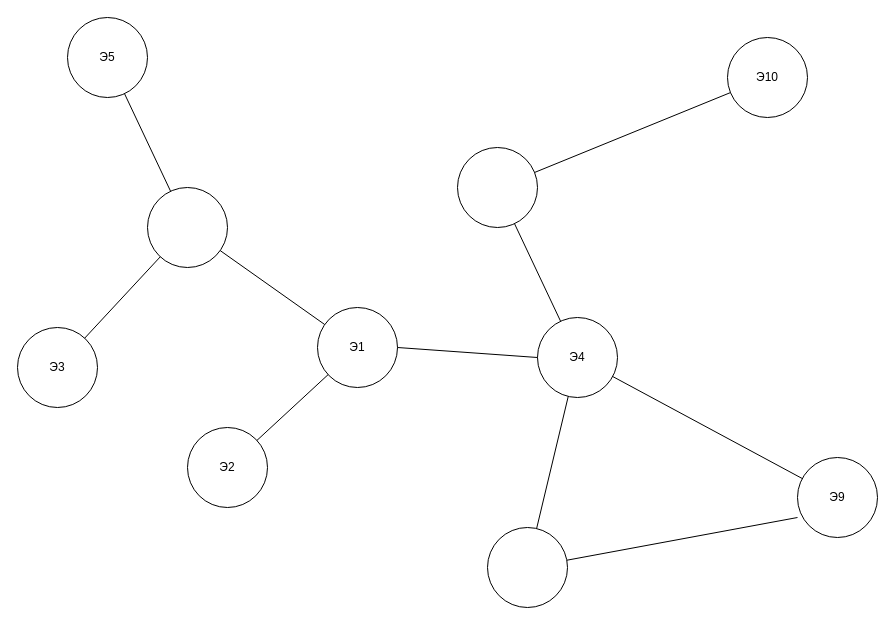
Some shapes in this 895 by 625 pixel diagram are drawn without their labels. Here are the shapes that lost their labels. From the top down, the centre of each, then its label:
the point at 497,187: Э7
the point at 187,227: Э6
the point at 527,567: Э8
